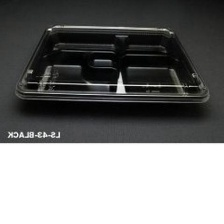plastic_box: (8, 16, 217, 118)
